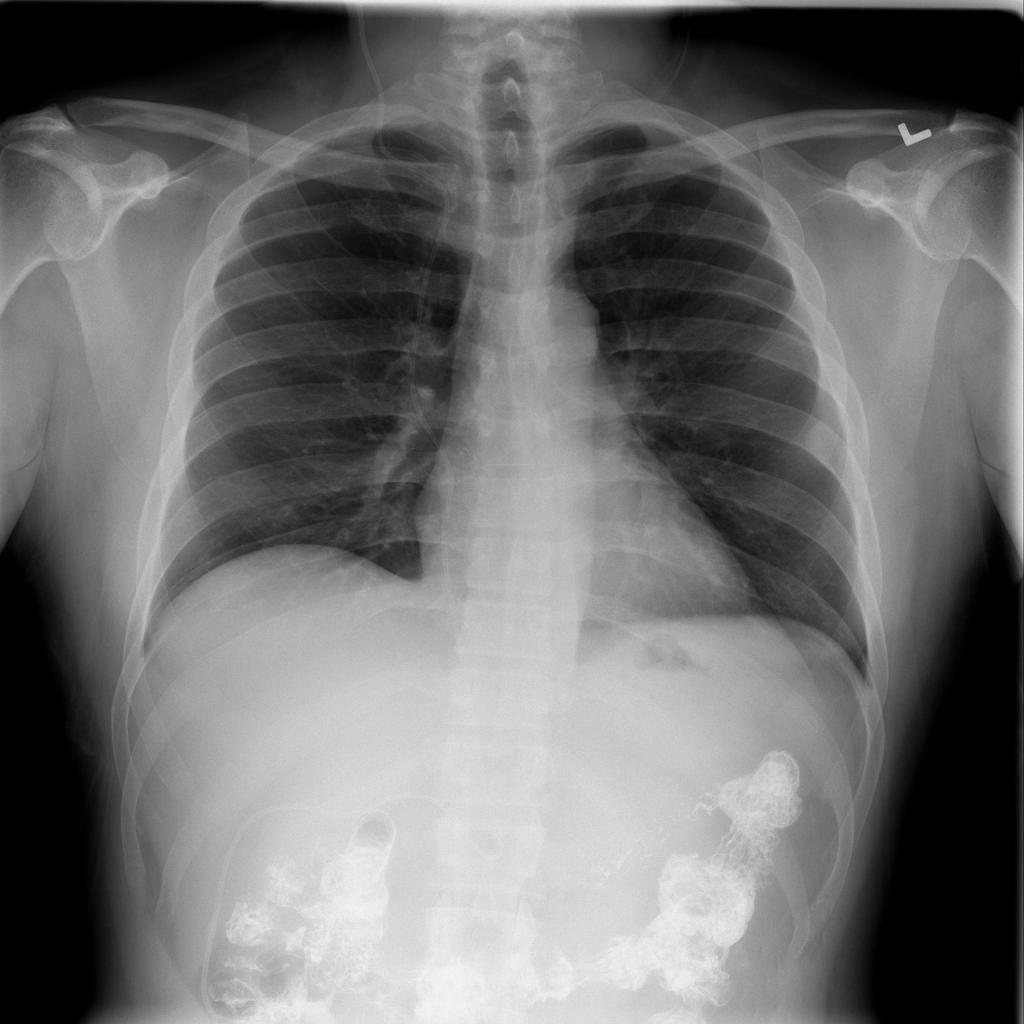nodule: (789, 407, 856, 482)
